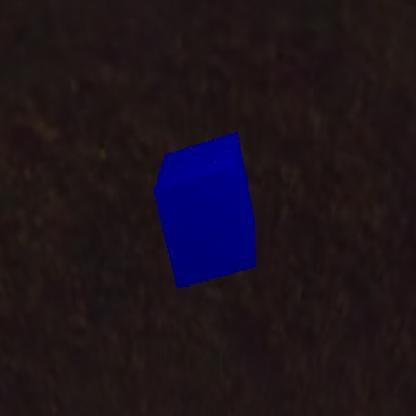cube: (152, 130, 256, 288)
